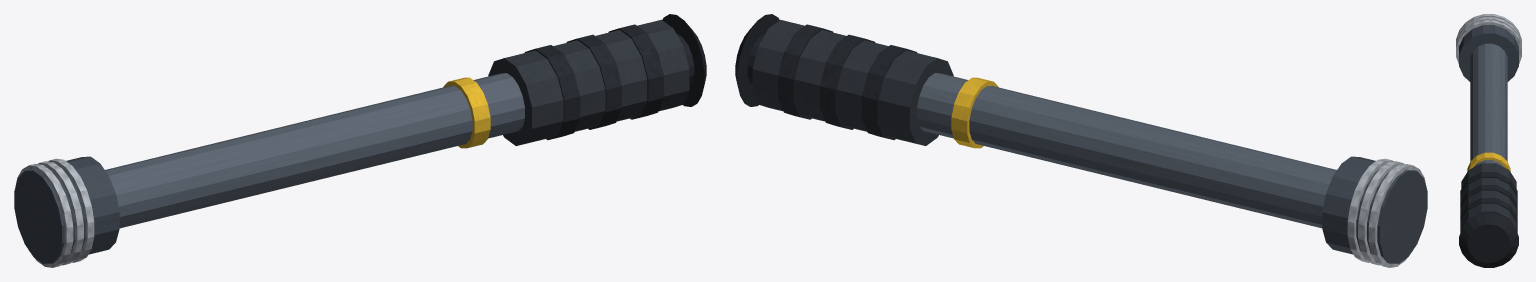
Rendered from barrel_ported_v2.glb.
3 renders of one model, left to right at view 1: azimuth 30°, elevation 25°; view 2: azimuth 150°, elevation 25°; view 3: azimuth 270°, elevation 25°, orthographic. The views are drawn at different scales.
Visible parts, largest first — view 1: barrel_ported_mesh; view 2: barrel_ported_mesh; view 3: barrel_ported_mesh.
Part boxes in pixels (box(x1,y1,x2,y2)): barrel_ported_mesh: box(14, 14, 706, 267); barrel_ported_mesh: box(735, 14, 1427, 267); barrel_ported_mesh: box(1456, 14, 1521, 267).
Size of the model in its own units: 0.2485 by 0.0344 by 0.0344.
7 materials, 7 textured.
